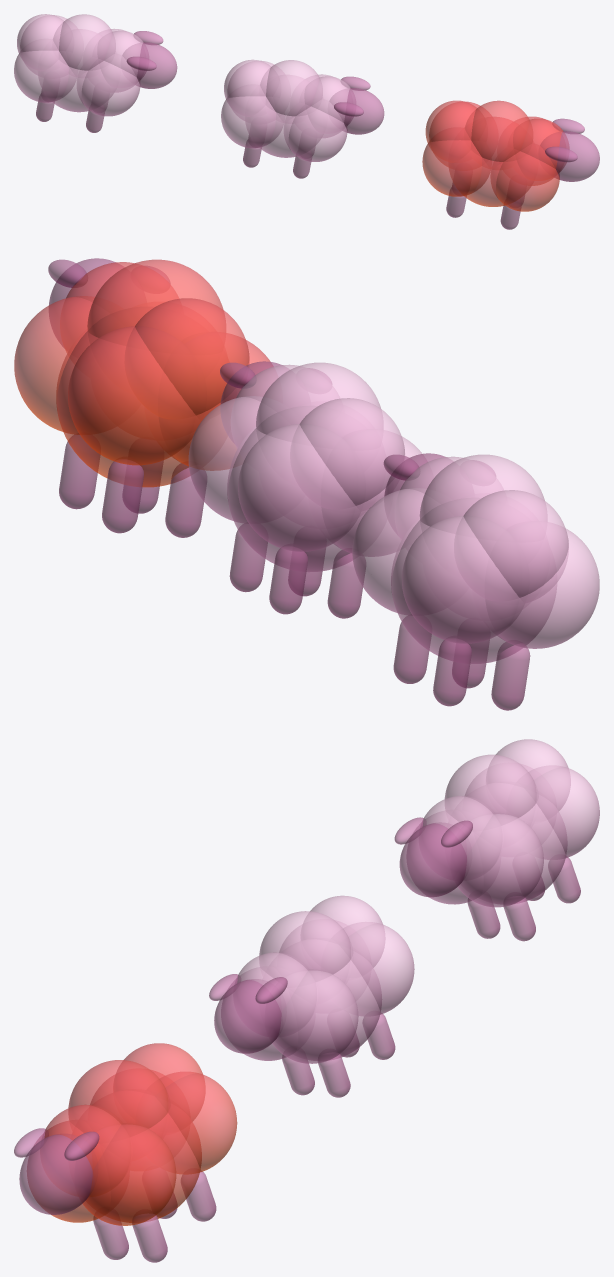
Rendered from following-sheep.glb.
3 views of the same model, one above another, from view 1: azimuth 30°, elevation 25°; view 2: azimuth 150°, elevation 25°; view 3: azimuth 270°, elevation 25° (orthographic). The views are drawn at different scales.
Parts seen in each view (by area): view 1: wool0_1, wool0_3, wool0_2, wool2_1, wool1_1, wool5_1, wool2_3, wool2_2, wool1_3, wool1_2, wool5_3, wool5_2 (+27 smaller); view 2: wool4_1, wool0_1, wool4_3, wool4_2, wool0_3, wool7_1, wool0_2, wool7_3, wool7_2, wool2_3, wool5_1, wool3_1 (+27 smaller); view 3: wool0_1, wool3_1, wool0_2, wool0_3, wool3_3, wool3_2, wool4_1, wool6_1, wool5_1, wool4_2, wool4_3, wool6_2 (+22 smaller).
Boxes of the visible parts, left/top/right/bottom form: wool0_1: left=449, top=117, right=533, bottom=206; wool0_3: left=38, top=29, right=115, bottom=112; wool0_2: left=245, top=75, right=322, bottom=157; wool2_1: left=422, top=128, right=490, bottom=196; wool1_1: left=491, top=143, right=559, bottom=211; wool5_1: left=465, top=100, right=532, bottom=168; wool2_3: left=14, top=39, right=76, bottom=102; wool2_2: left=221, top=85, right=283, bottom=148; wool1_3: left=77, top=54, right=140, bottom=116; wool1_2: left=284, top=99, right=347, bottom=161; wool5_3: left=53, top=14, right=115, bottom=76; wool5_2: left=260, top=60, right=322, bottom=122; wool4_1: left=68, top=326, right=200, bottom=465; wool0_1: left=57, top=307, right=191, bottom=487; wool4_3: left=402, top=516, right=524, bottom=643; wool4_2: left=238, top=424, right=360, bottom=551; wool0_3: left=391, top=498, right=556, bottom=663; wool7_1: left=125, top=298, right=249, bottom=420; wool0_2: left=228, top=406, right=367, bottom=572; wool7_3: left=454, top=490, right=568, bottom=602; wool7_2: left=290, top=398, right=404, bottom=510; wool2_3: left=485, top=521, right=599, bottom=648; wool5_1: left=87, top=259, right=225, bottom=345; wool3_1: left=14, top=296, right=109, bottom=434; wool0_1: left=93, top=1090, right=201, bottom=1222; wool3_1: left=79, top=1123, right=176, bottom=1225; wool0_2: left=281, top=939, right=381, bottom=1060; wool0_3: left=467, top=783, right=566, bottom=903; wool3_3: left=454, top=813, right=543, bottom=907; wool3_2: left=269, top=969, right=358, bottom=1063; wool4_1: left=155, top=1072, right=237, bottom=1173; wool6_1: left=40, top=1105, right=130, bottom=1196; wool5_1: left=68, top=1060, right=170, bottom=1137; wool4_2: left=339, top=922, right=414, bottom=1015; wool4_3: left=524, top=766, right=599, bottom=859; wool6_2: left=233, top=952, right=316, bottom=1036.
Bounding box in the file's own units: 1.4 × 0.6074 × 1.14.
